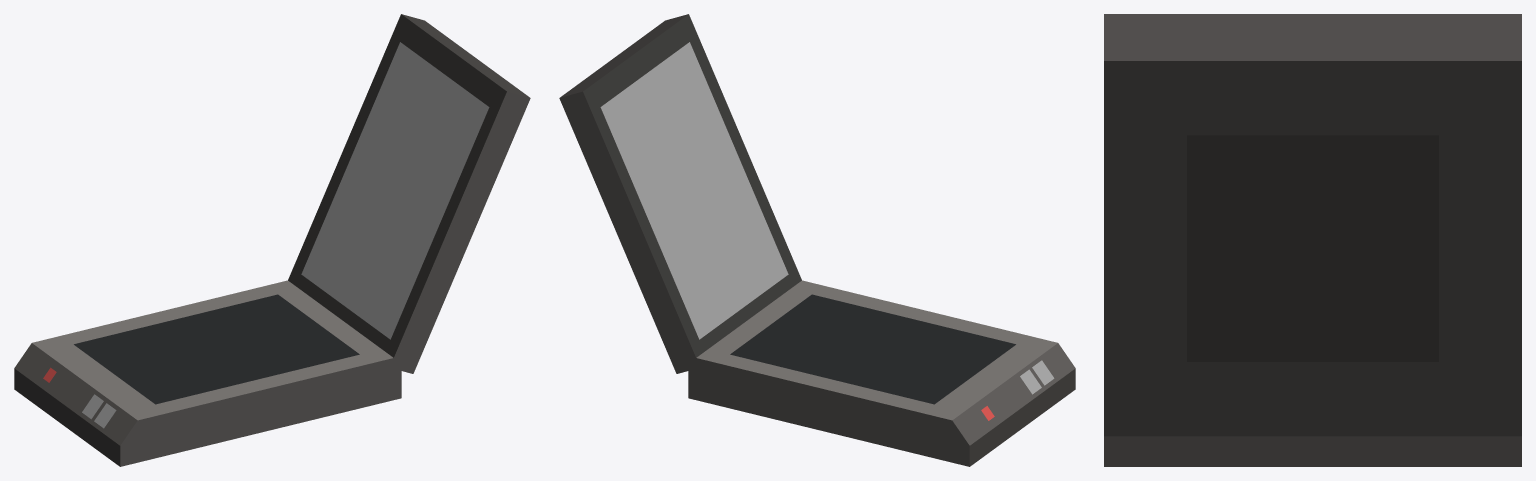
File: SO_Scanner.fbx
3 views of the same model, side by side, from view 1: azimuth 30°, elevation 25°; view 2: azimuth 150°, elevation 25°; view 3: azimuth 270°, elevation 25° (orthographic). The views are drawn at different scales.
Parts seen in each view (by area): view 1: SO_Scanner; view 2: SO_Scanner; view 3: SO_Scanner.
Part boxes in pixels (x1,y1,x2,y2): SO_Scanner: (14,14,530,466); SO_Scanner: (559,14,1075,466); SO_Scanner: (1104,14,1521,466).
Size of the model in its own units: 1.64 by 1.07 by 0.7321.
